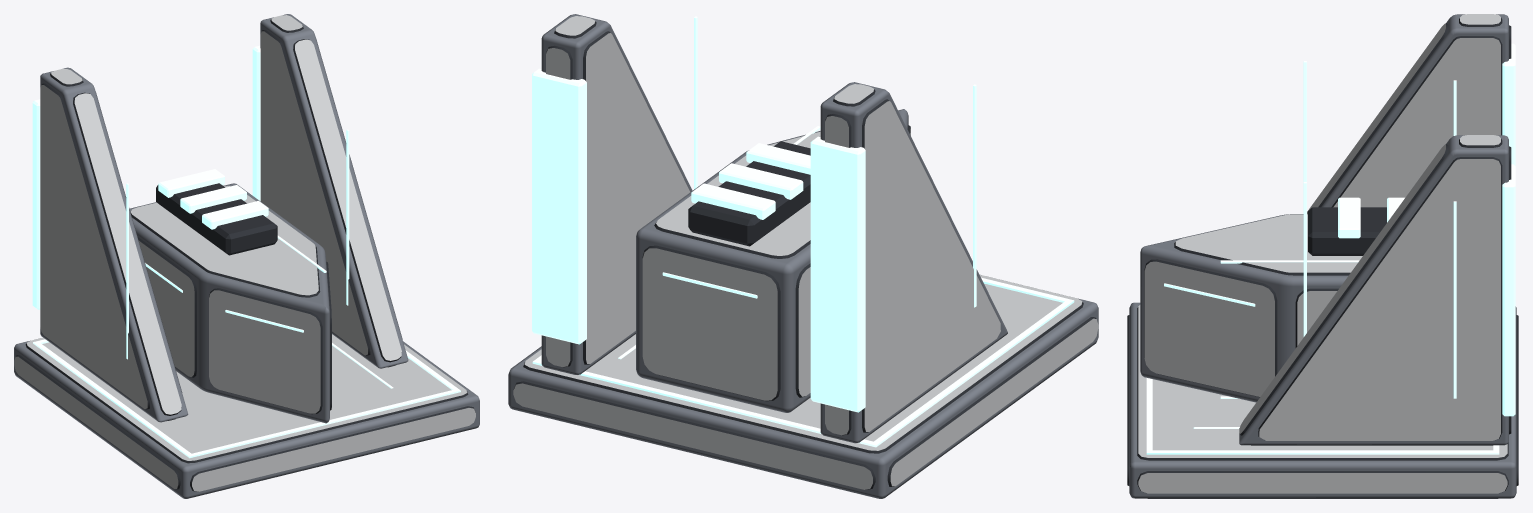
Rendered from R4X_MobilityBooster.fbx.
3 renders of one model, left to right at view 1: azimuth 30°, elevation 25°; view 2: azimuth 150°, elevation 25°; view 3: azimuth 270°, elevation 25°, orthographic. The views are drawn at different scales.
Parts seen in each view (by area): view 1: R4X_MobilityBooster_Body; view 2: R4X_MobilityBooster_Body; view 3: R4X_MobilityBooster_Body.
Boxes of the visible parts, x1,y1,x2,y2 form: R4X_MobilityBooster_Body: (14,14,479,498); R4X_MobilityBooster_Body: (508,14,1098,498); R4X_MobilityBooster_Body: (1127,14,1518,498).
Bounding box in the file's own units: 0.52 × 0.5 × 0.52.
